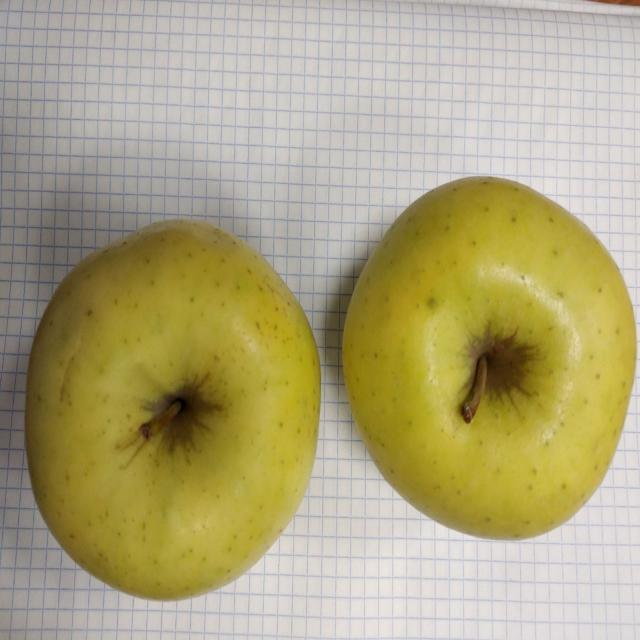Fresh Apple: (30, 226, 323, 596), (340, 182, 640, 533)
